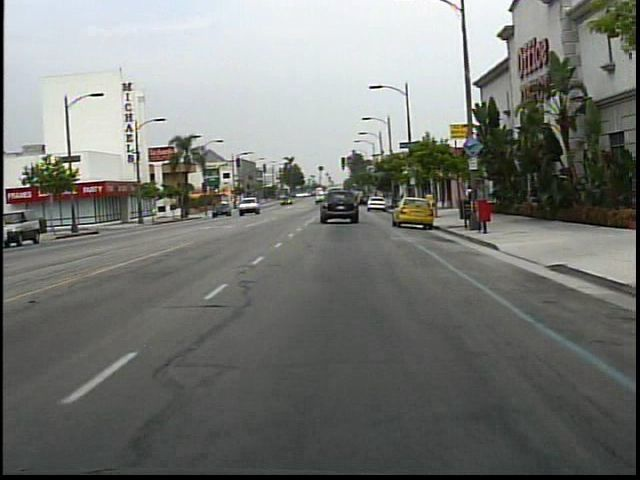person: (463, 184, 484, 221)
